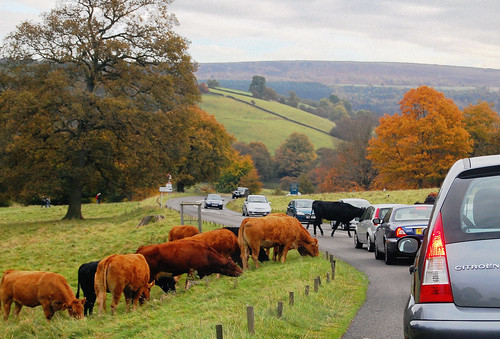animal: (1, 267, 87, 322), (236, 213, 324, 266), (140, 239, 249, 279), (93, 253, 154, 307), (305, 197, 355, 234)
car: (395, 156, 500, 327), (371, 209, 433, 269), (240, 194, 274, 215), (203, 192, 227, 212)
sky: (203, 1, 500, 62)
tree: (2, 1, 197, 213), (368, 85, 469, 194)
